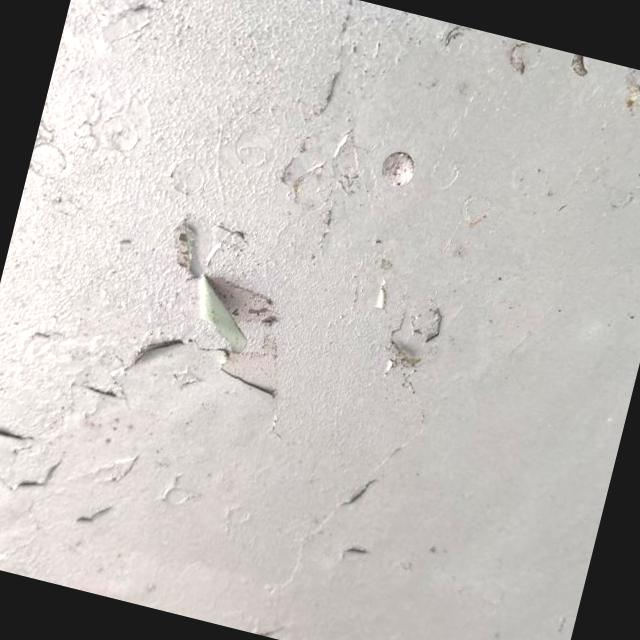paint-off: (142, 241, 312, 390)
